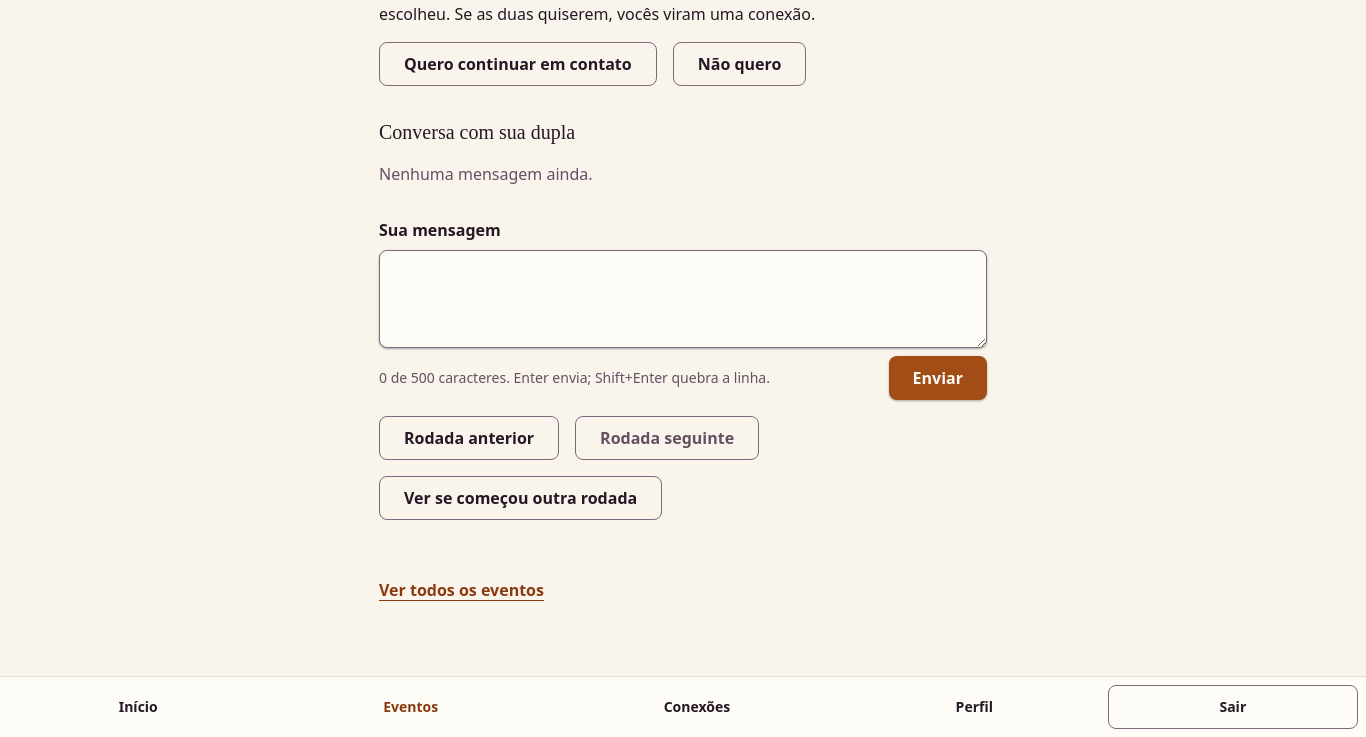
Test case: private decision after a round › reads the decision of each round on its own
(page scrolled)
Expected: the button "Não quero" is shown, [673,42,806,86]
Click the button "Rodada anterior". click: (469, 438)
box: [379,416,559,460]
(page scrolled)
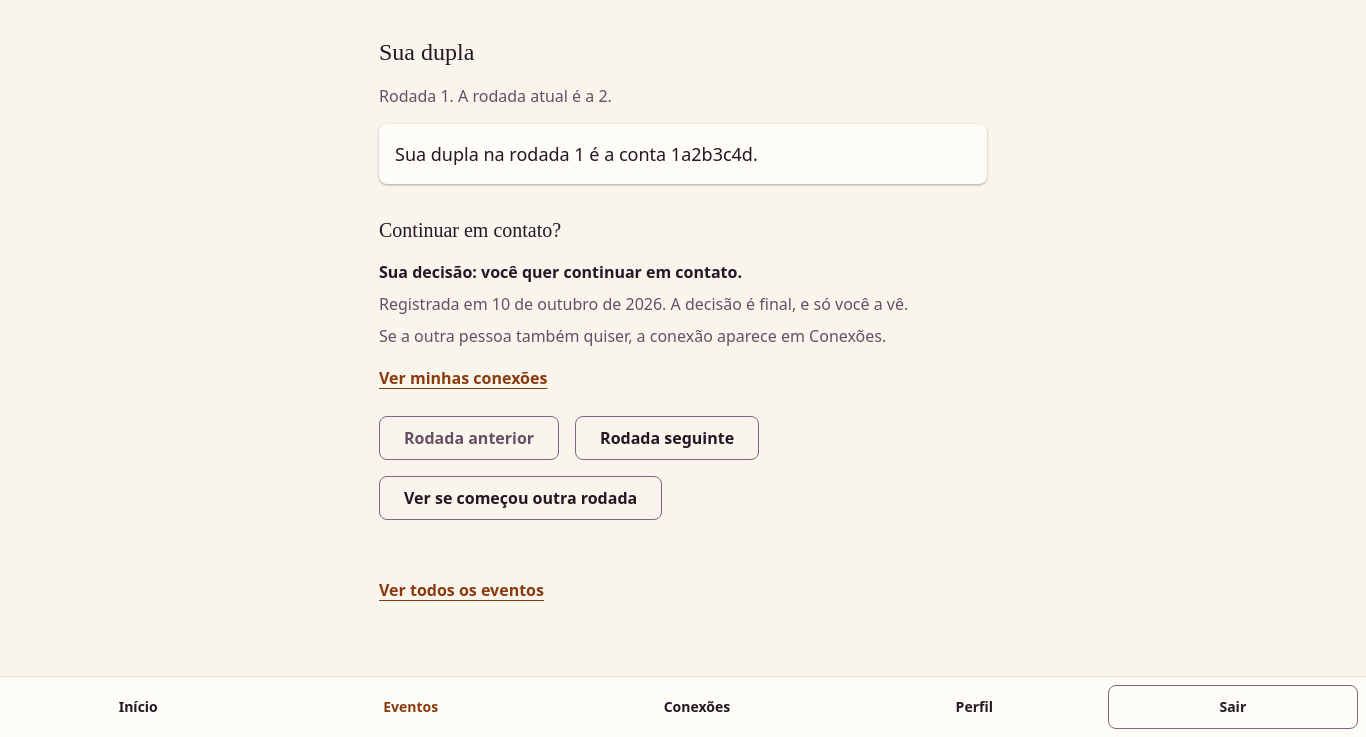
Expected: the text "Sua decisão: você quer continuar em contato." is shown, [379,260,742,284]
Expected: the button "Não quero" is gone
